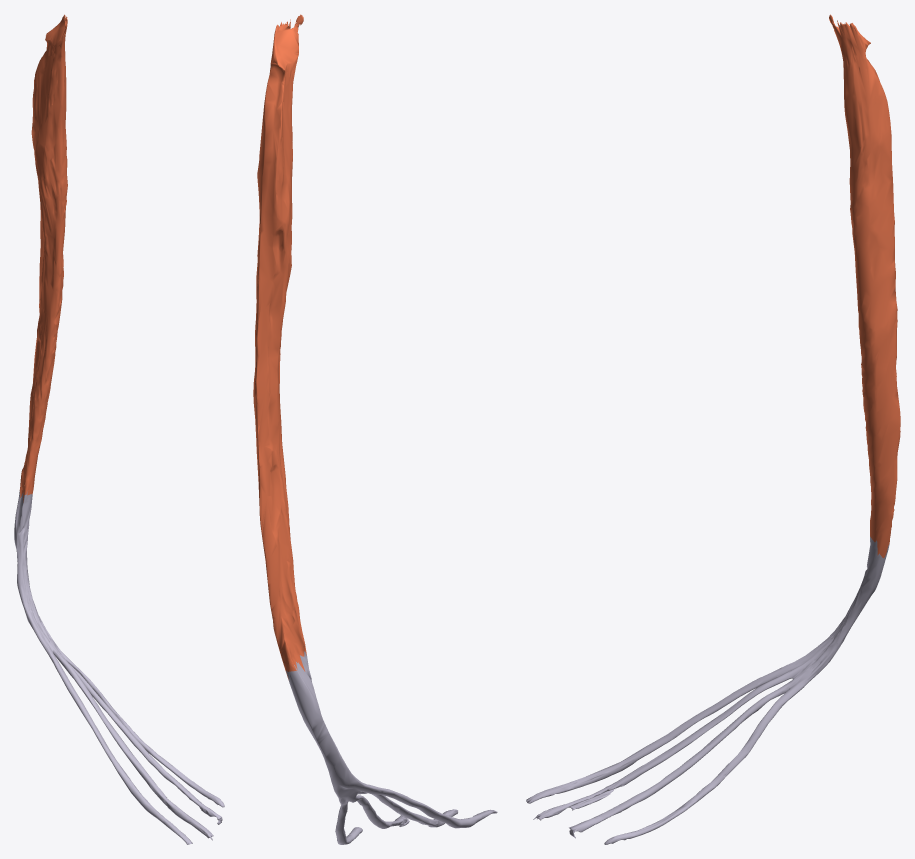
File: Extensor_digitorum_longus.l_Generated_Mesh_From_X3D.972.glb
The picture shows the model from 3 angles, left to right: view 1: azimuth 30°, elevation 25°; view 2: azimuth 150°, elevation 25°; view 3: azimuth 270°, elevation 25°; orthographic projection. The views are drawn at different scales.
Parts seen in each view (by area): view 1: Extensor_digitorum_longus.l_Generated_Mesh_From_X3D.972; view 2: Extensor_digitorum_longus.l_Generated_Mesh_From_X3D.972; view 3: Extensor_digitorum_longus.l_Generated_Mesh_From_X3D.972.
Boxes of the visible parts, left/top/right/bottom form: Extensor_digitorum_longus.l_Generated_Mesh_From_X3D.972: left=14, top=14, right=224, bottom=844; Extensor_digitorum_longus.l_Generated_Mesh_From_X3D.972: left=253, top=14, right=497, bottom=844; Extensor_digitorum_longus.l_Generated_Mesh_From_X3D.972: left=526, top=14, right=900, bottom=844.
Bounding box in the file's own units: 0.0568 × 0.4066 × 0.1718.
